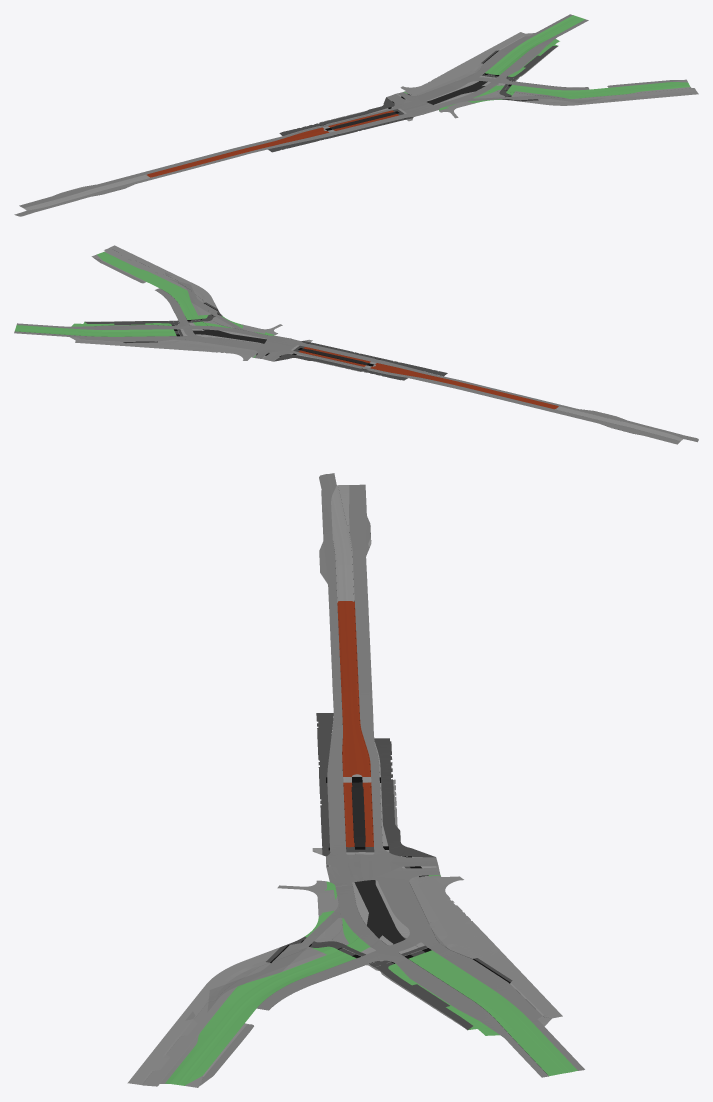
Rendered from PAM_tram_surfaces_Itsenaisyydenkatu.FBX.
The picture shows the model from 3 angles, top to bottom: view 1: azimuth 30°, elevation 25°; view 2: azimuth 150°, elevation 25°; view 3: azimuth 270°, elevation 25°; orthographic projection. The views are drawn at different scales.
Parts seen in each view (by area): view 1: PAM_tram_surfaces_Itsenaisyydenkatu; view 2: PAM_tram_surfaces_Itsenaisyydenkatu; view 3: PAM_tram_surfaces_Itsenaisyydenkatu.
Part boxes in pixels (bbox=[...]): PAM_tram_surfaces_Itsenaisyydenkatu: bbox=[14, 14, 698, 216]; PAM_tram_surfaces_Itsenaisyydenkatu: bbox=[14, 245, 698, 444]; PAM_tram_surfaces_Itsenaisyydenkatu: bbox=[127, 473, 584, 1087].
Size of the model in its own units: 599 by 3.88 by 186.
